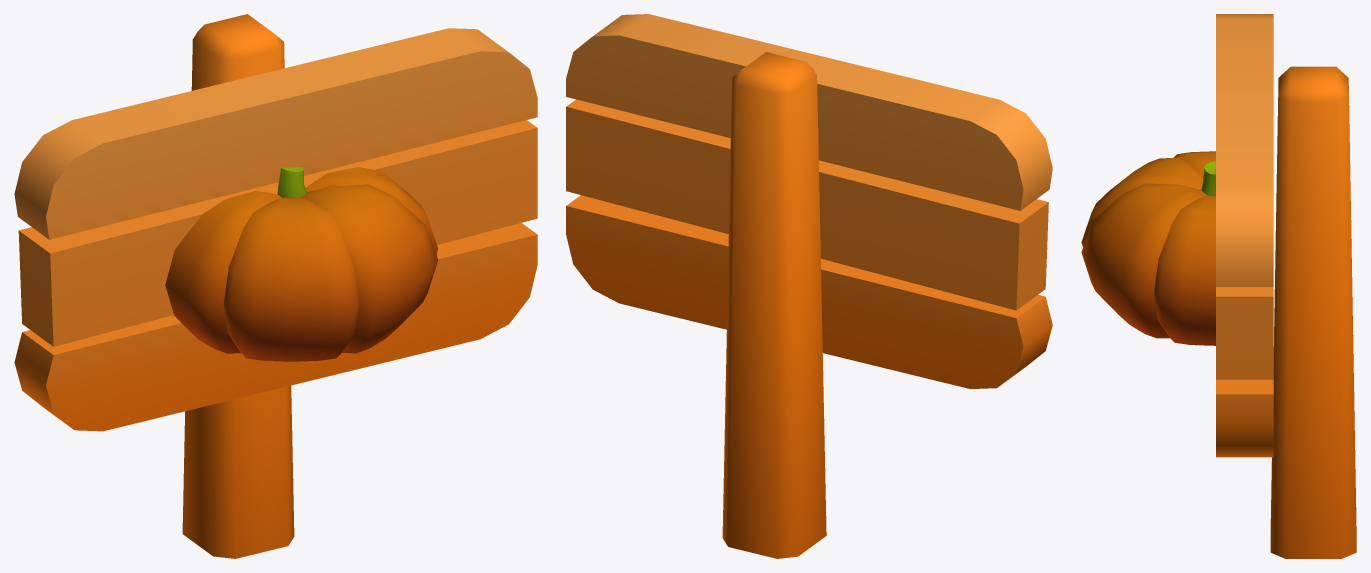
File: Farm_Crop_Sign_Pumpkin_01.fbx
3 renders of one model, left to right at view 1: azimuth 30°, elevation 25°; view 2: azimuth 150°, elevation 25°; view 3: azimuth 270°, elevation 25°, orthographic. The views are drawn at different scales.
Parts seen in each view (by area): view 1: Farm_Crop_Sign_Pumpkin_01; view 2: Farm_Crop_Sign_Pumpkin_01; view 3: Farm_Crop_Sign_Pumpkin_01.
Part boxes in pixels (x1,y1,x2,y2): Farm_Crop_Sign_Pumpkin_01: (14, 14, 537, 558); Farm_Crop_Sign_Pumpkin_01: (566, 14, 1052, 558); Farm_Crop_Sign_Pumpkin_01: (1081, 14, 1356, 558).
Size of the model in its own units: 90.11 by 88.8 by 47.67.
